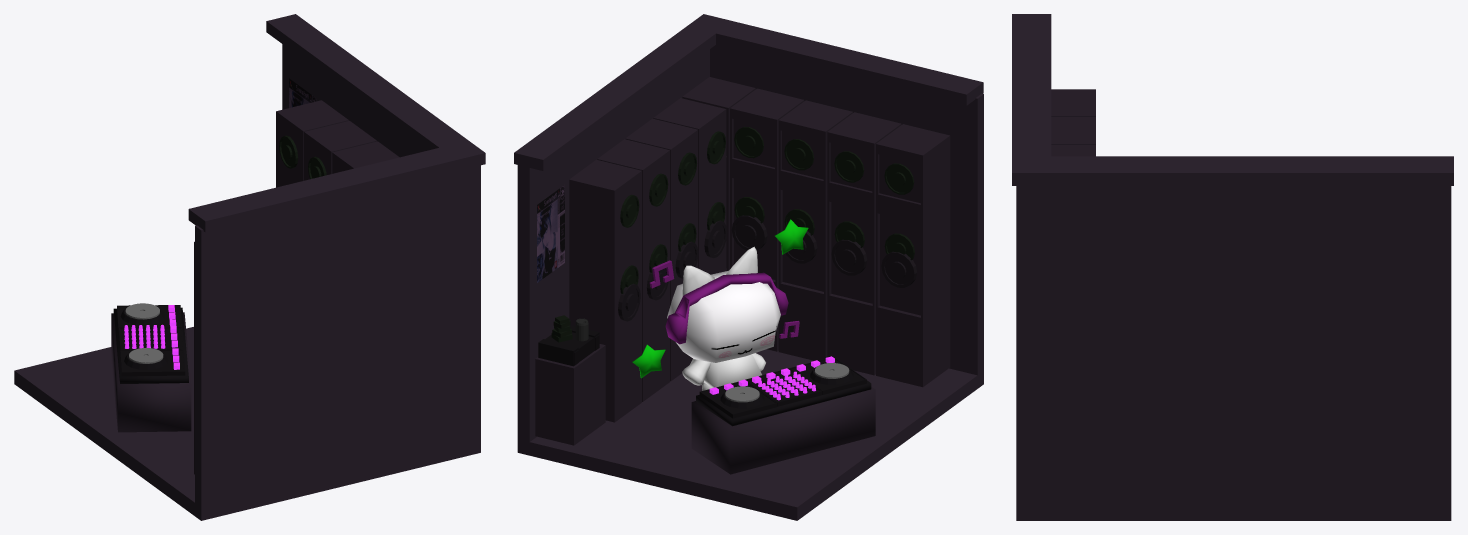
Rendered from catblend.compressed.glb.
3 views of the same model, side by side, from view 1: azimuth 30°, elevation 25°; view 2: azimuth 150°, elevation 25°; view 3: azimuth 270°, elevation 25° (orthographic). The views are drawn at different scales.
Visible parts, largest first — view 1: room, roofing, speakers2, DjStand, djUnderButtons, buttons, djBoadMat, cds, smallStereo2, cdHolders; view 2: room, speakers1, speakers2, roofing, DjStand, catHead, stand, smallStereo1, largeStereo1, smallStereo2, djUnderButtons, largeStereo2 (+12 smaller); view 3: room, roofing, speakers1.
Boxes of the visible parts, x1,y1,x2,y2 form: room: (14, 44, 480, 520); roofing: (188, 14, 485, 232); speakers2: (276, 100, 399, 187); DjStand: (111, 312, 191, 432); djUnderButtons: (117, 305, 185, 376); buttons: (124, 305, 179, 369); djBoadMat: (113, 307, 188, 383); cds: (125, 303, 163, 363); smallStereo2: (279, 135, 326, 179); cdHolders: (120, 306, 168, 369); room: (517, 45, 983, 520); speakers1: (682, 77, 950, 387); speakers2: (569, 98, 726, 422); roofing: (514, 14, 983, 170); DjStand: (691, 387, 875, 474); catHead: (667, 270, 780, 362); stand: (535, 344, 605, 445); smallStereo1: (734, 126, 914, 260); largeStereo1: (731, 215, 916, 287); smallStereo2: (620, 131, 725, 293); djUnderButtons: (699, 356, 866, 418); largeStereo2: (618, 220, 727, 321); room: (1016, 186, 1451, 520); roofing: (1012, 14, 1453, 185); speakers1: (1051, 89, 1095, 156).
Bounding box in the file's own units: 4.68 × 4.76 × 5.45.
13 materials, 2 textured.
